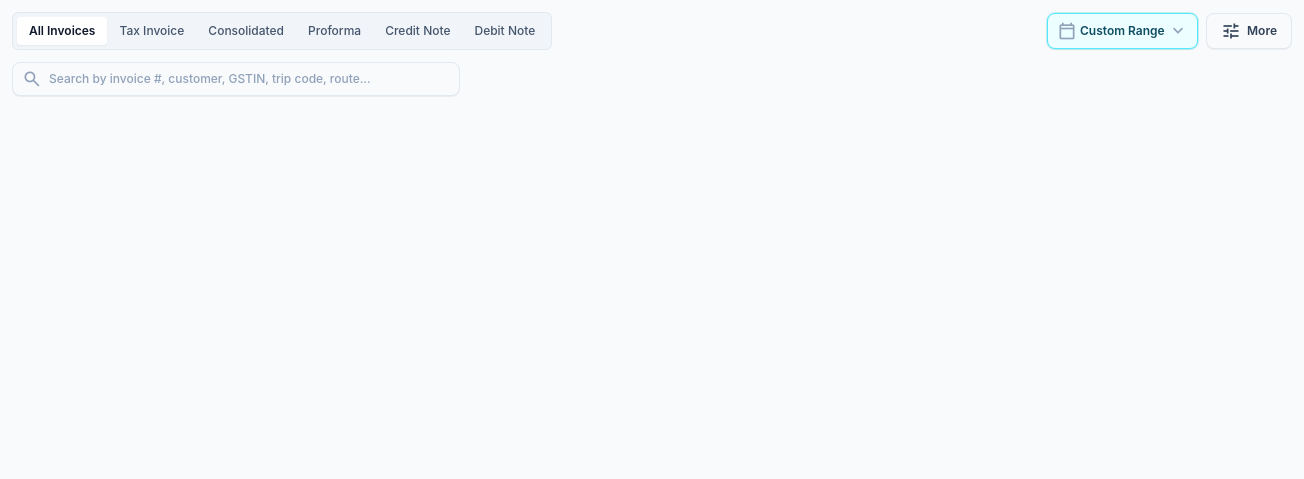
Test: InvoiceToolbar › shows custom date fields when date preset is custom
The image size is (1304, 479).
Click the button with aria-label "More Filters" at point(1249, 31), box [1206, 13, 1292, 49]
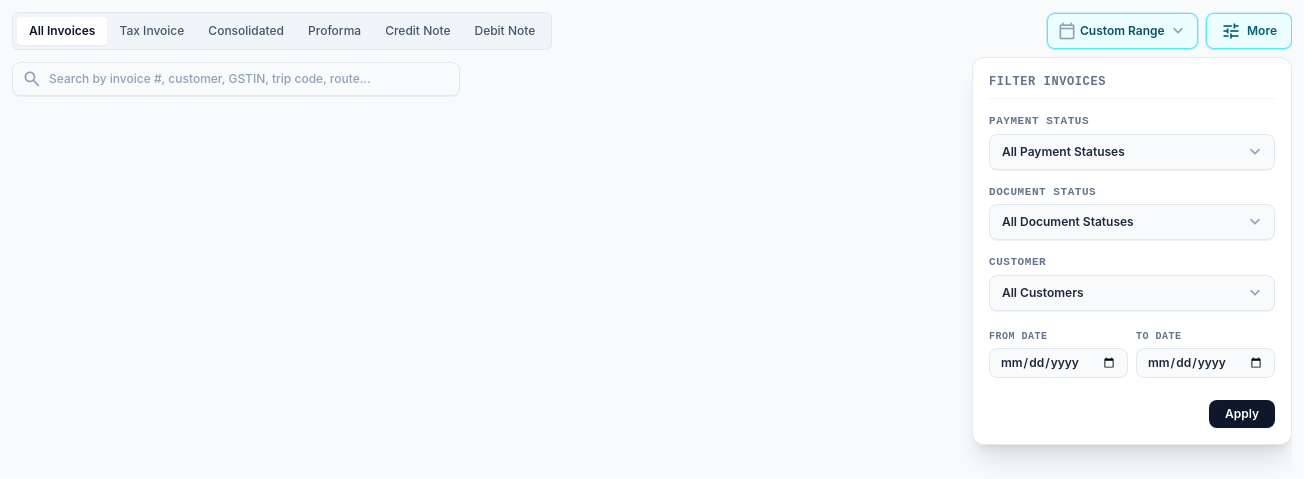
Check: the text "From Date" is shown, box [989, 330, 1048, 342]
Check: the text "To Date" is shown, box [1136, 330, 1182, 342]
